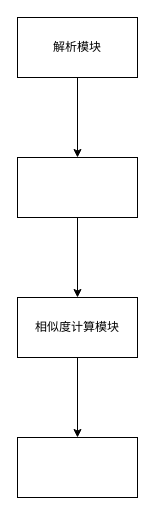
The diagram is 155 pixels wide and 515 high, and some of its shapes have lost their labels. Here are the shapes that lost their labels. From the top down, the centre of each, then its label:
the point at 77,187: 重合度计算模块
the point at 77,467: 告警处理模块
